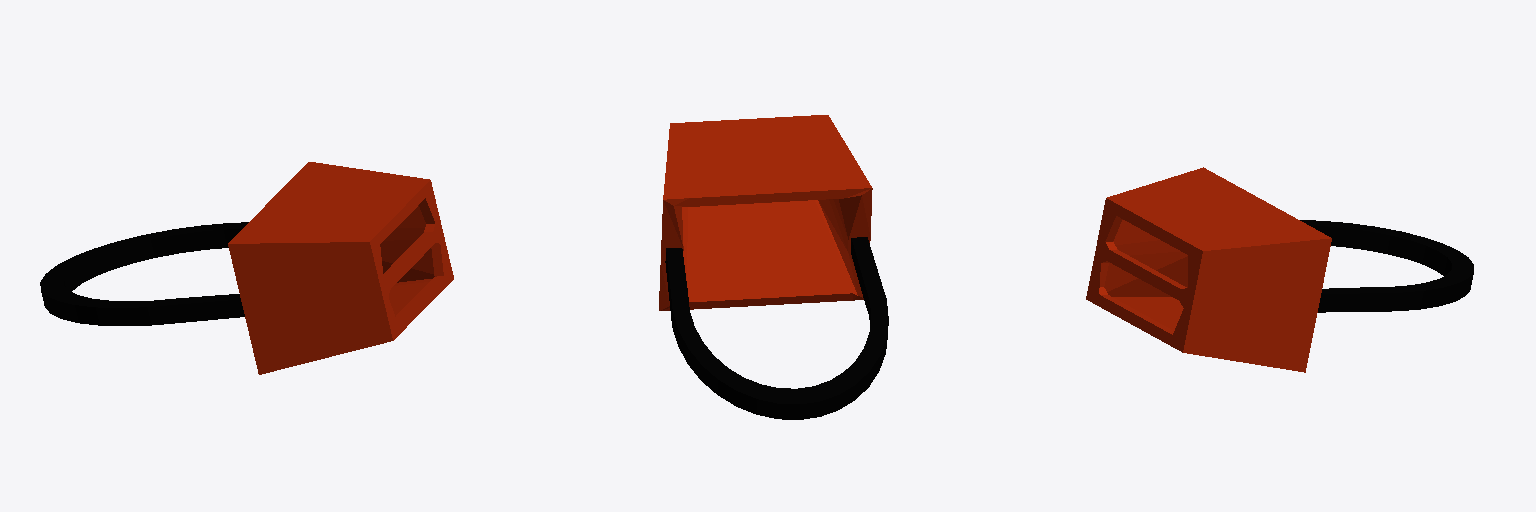
The model's file is belay_devicev3.obj.
3 views of the same model, side by side, from view 1: azimuth 30°, elevation 25°; view 2: azimuth 150°, elevation 25°; view 3: azimuth 270°, elevation 25° (orthographic).
Visible parts, largest first — view 1: belaydevicev3_Cube.001; view 2: belaydevicev3_Cube.001; view 3: belaydevicev3_Cube.001.
Part boxes in pixels (left/top/right/bottom): belaydevicev3_Cube.001: left=40, top=162, right=453, bottom=374; belaydevicev3_Cube.001: left=659, top=115, right=888, bottom=419; belaydevicev3_Cube.001: left=1086, top=167, right=1473, bottom=372.
Size of the model in its own units: 0.5831 by 0.265 by 0.6547.